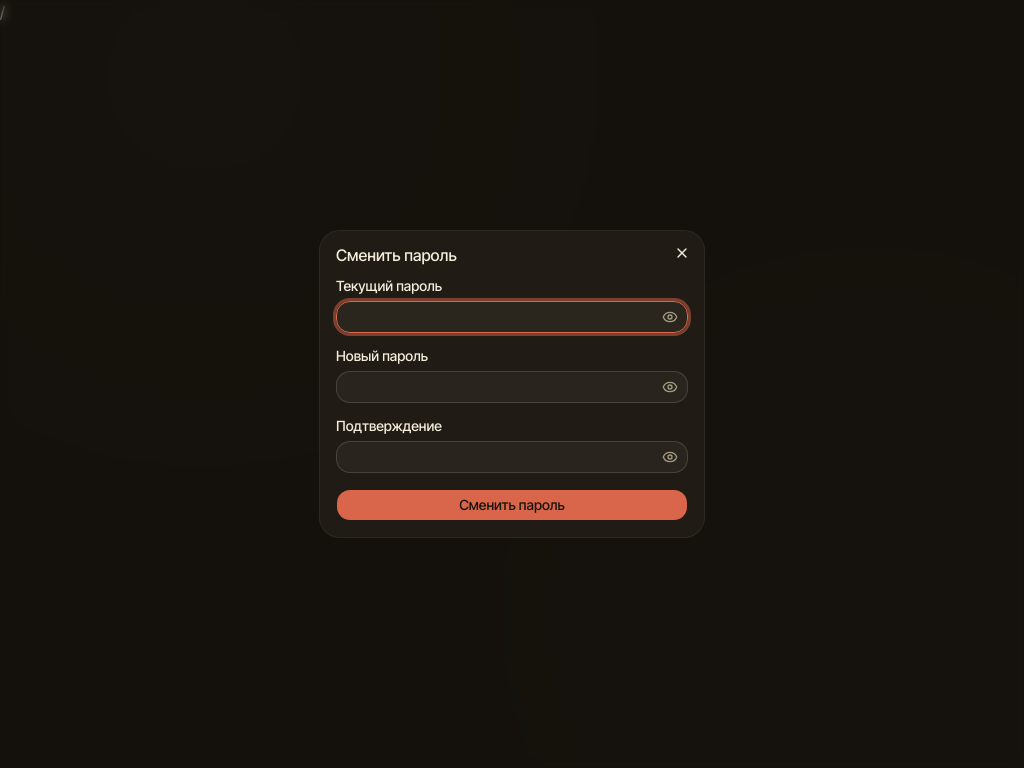
it: ChangePasswordDialog › показывает сообщение сервера при другой ошибке
The image size is (1024, 768).
Type "oldpass123" into the password field labelled "Текущий пароль".
click(512, 317); type("oldpass123")  # box [336,301,688,333]
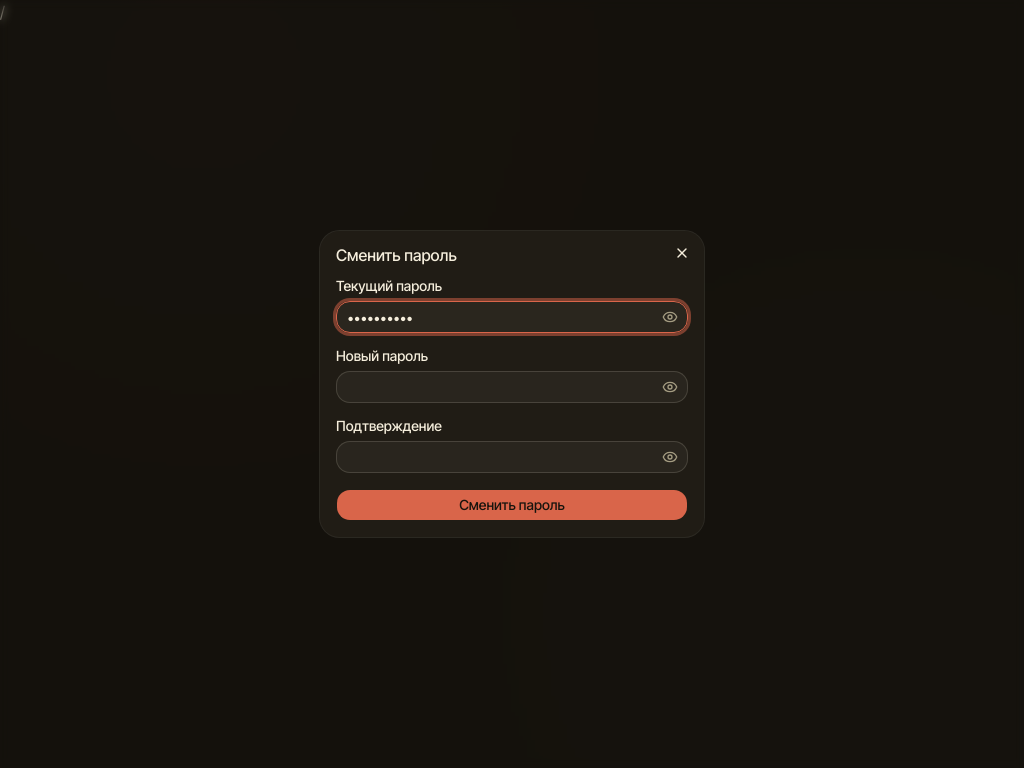
Type "newpass123" into the password field labelled "Новый пароль".
click(512, 387); type("newpass123")  # box [336,371,688,403]
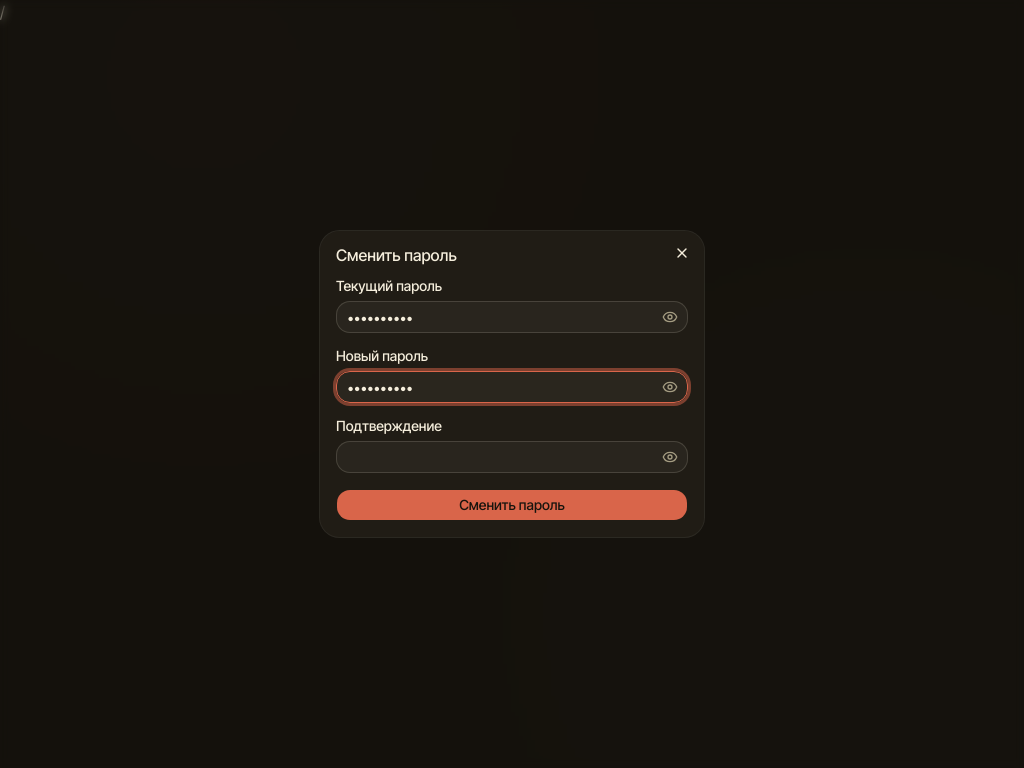
Type "newpass123" into the password field labelled "Подтверждение".
click(512, 457); type("newpass123")  # box [336,441,688,473]
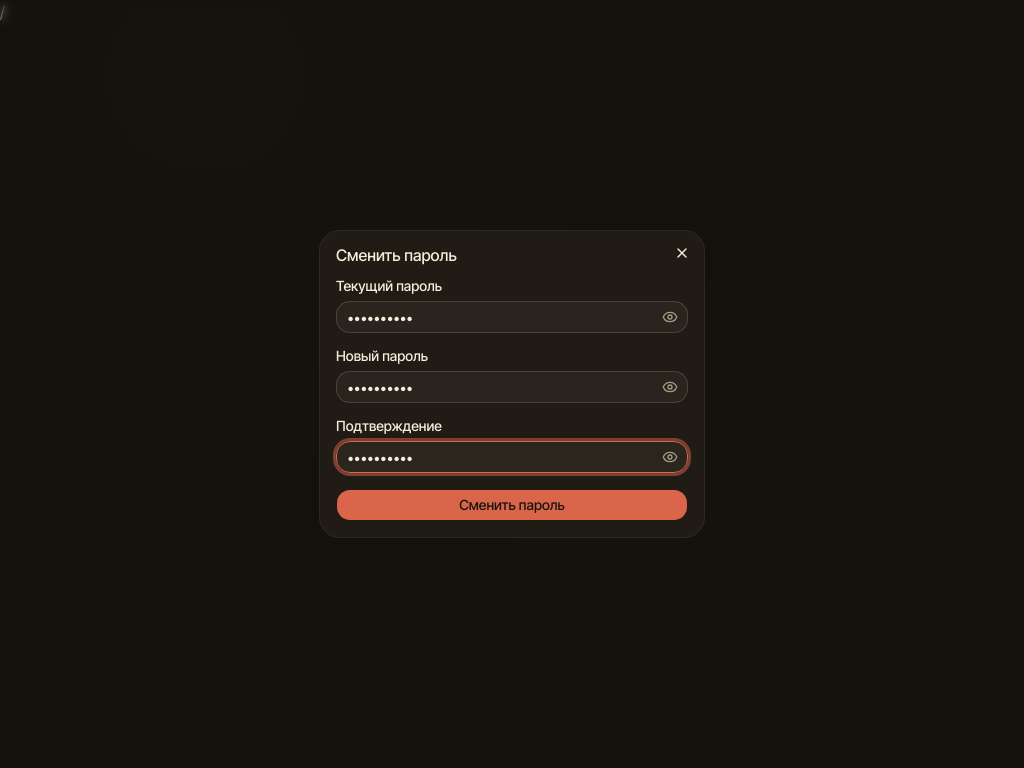
Click the button "Сменить пароль".
click(512, 505)  # box [336,489,688,521]
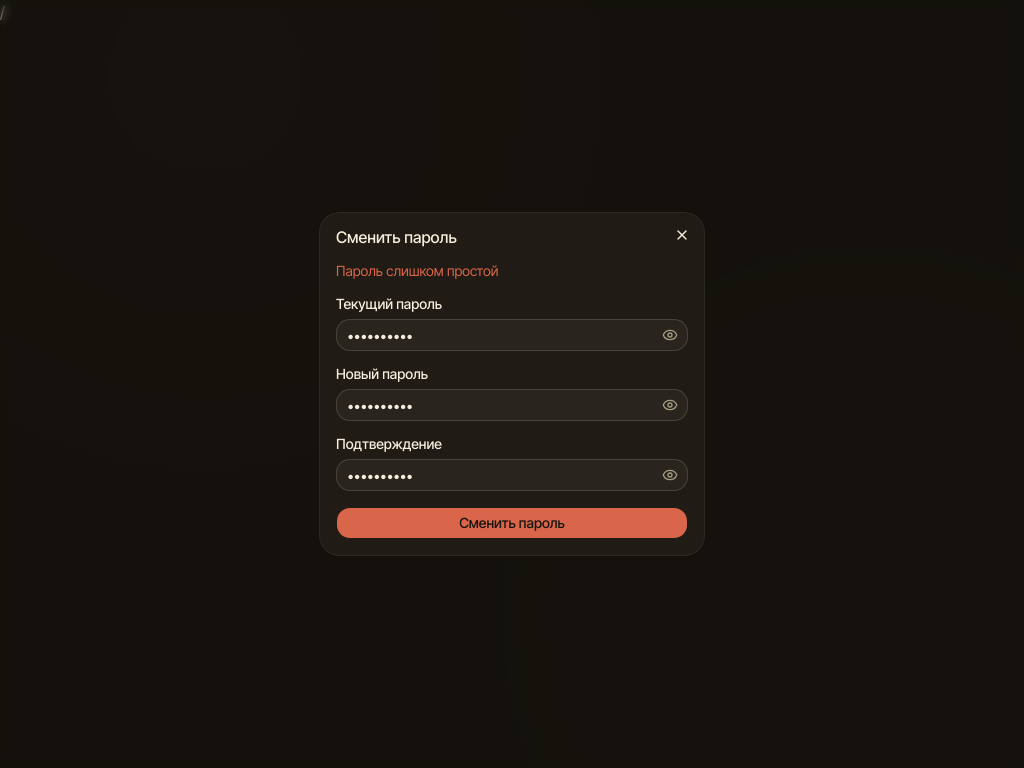
Check: the text "Пароль слишком простой" is shown, box [336,262,498,279]
